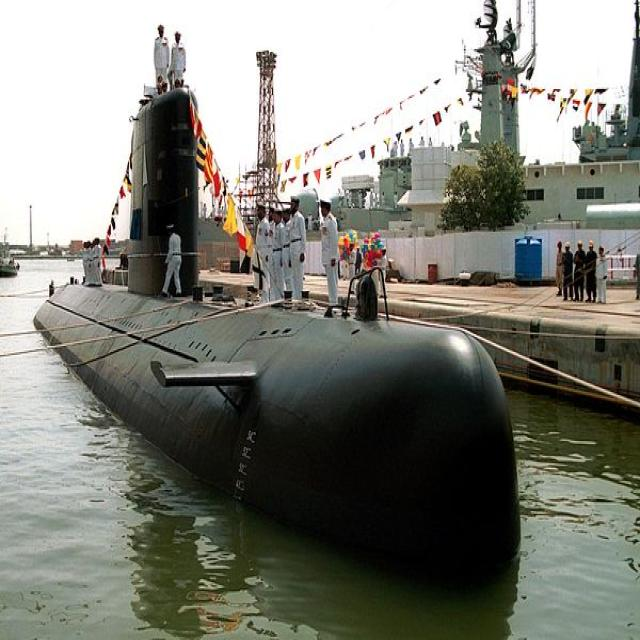Submarine-Agosta-Class-PAK: (40, 86, 515, 592)
